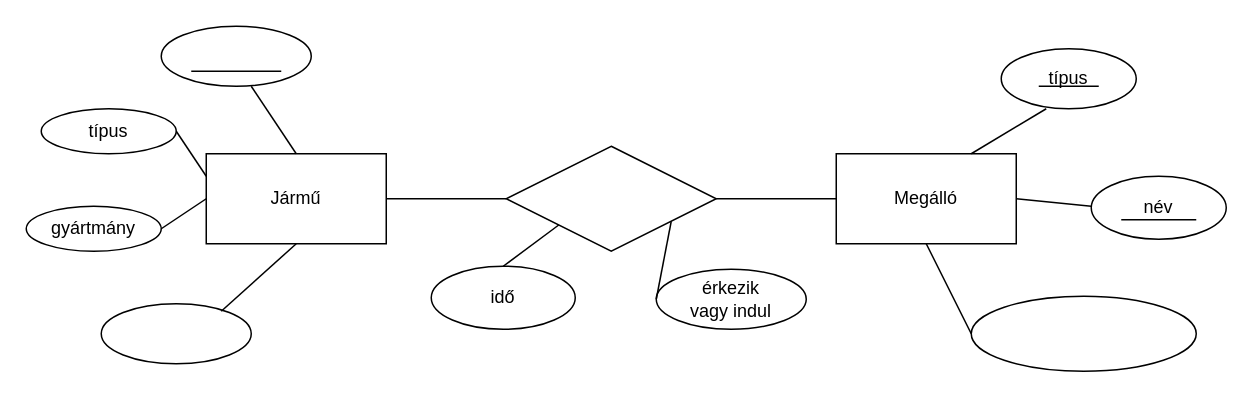
Some shapes in this 1253 by 398 pixel diagram are drawn without their labels. The centre of each missing label's shape, as x and y in pixels:
akadálymentesített-e?: (1083,333)
járatszám: (235,55)
Közlekedik: (610,198)
üzemeltető: (175,333)
